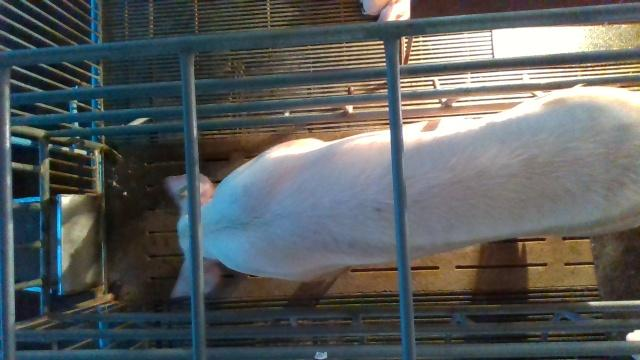sow-stand: (163, 86, 640, 298)
